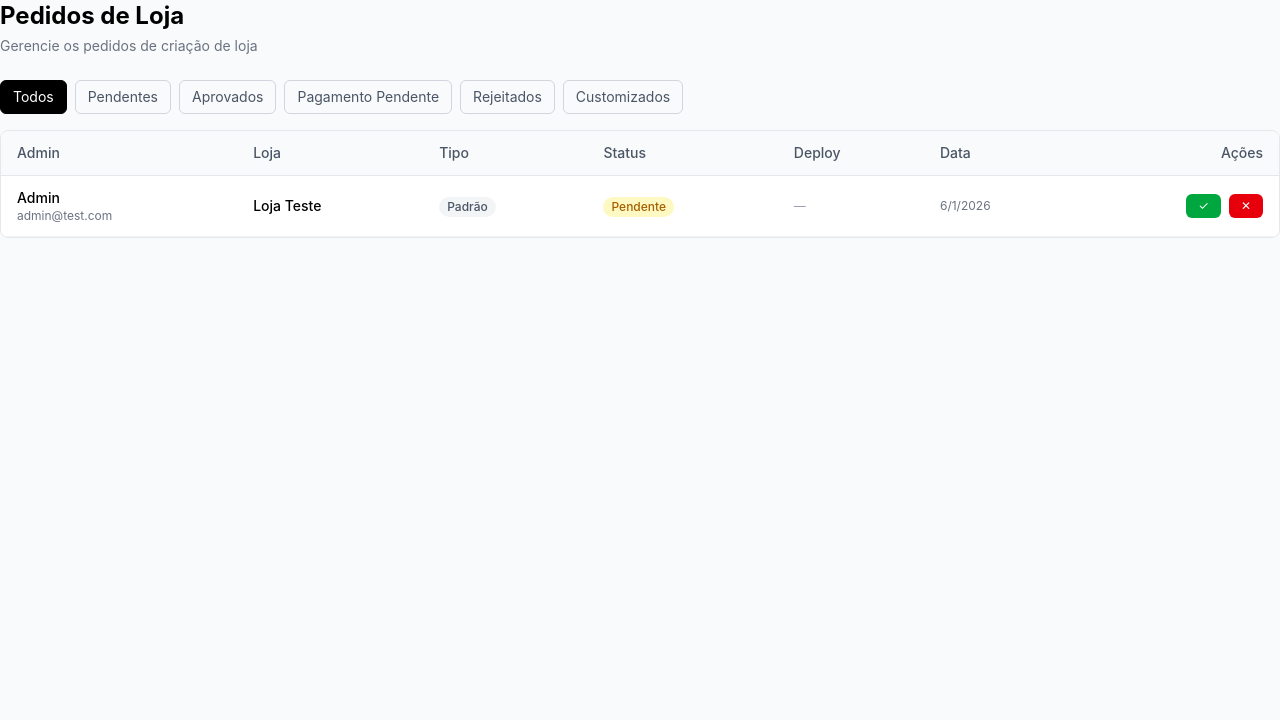
Test: Store Requests Page › PENDING requests › opens reject modal on reject click
The width and height of the screenshot is (1280, 720).
What coordinates should you click on to do the following:
click the button "✕"
I would click on:
 (1246, 206)
Its box is [1229,194,1263,218].
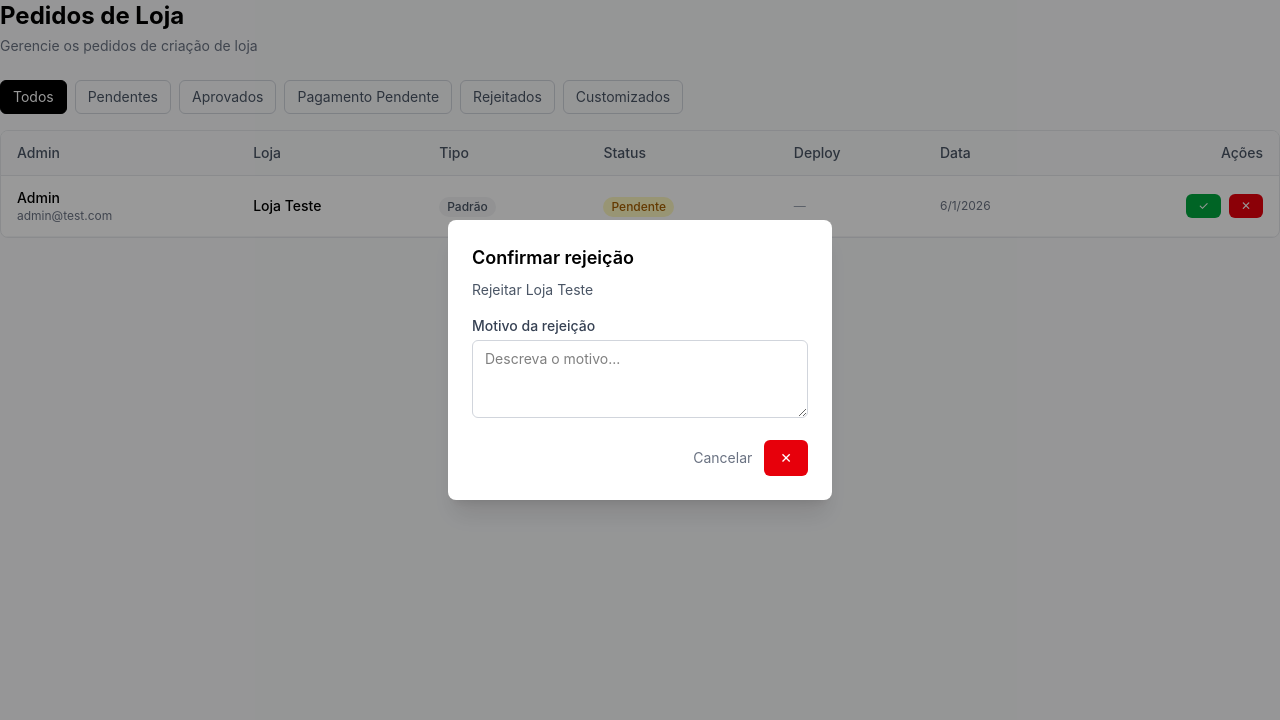
Now the heading "Confirmar rejeição" is shown, box [472,247,634,268]
